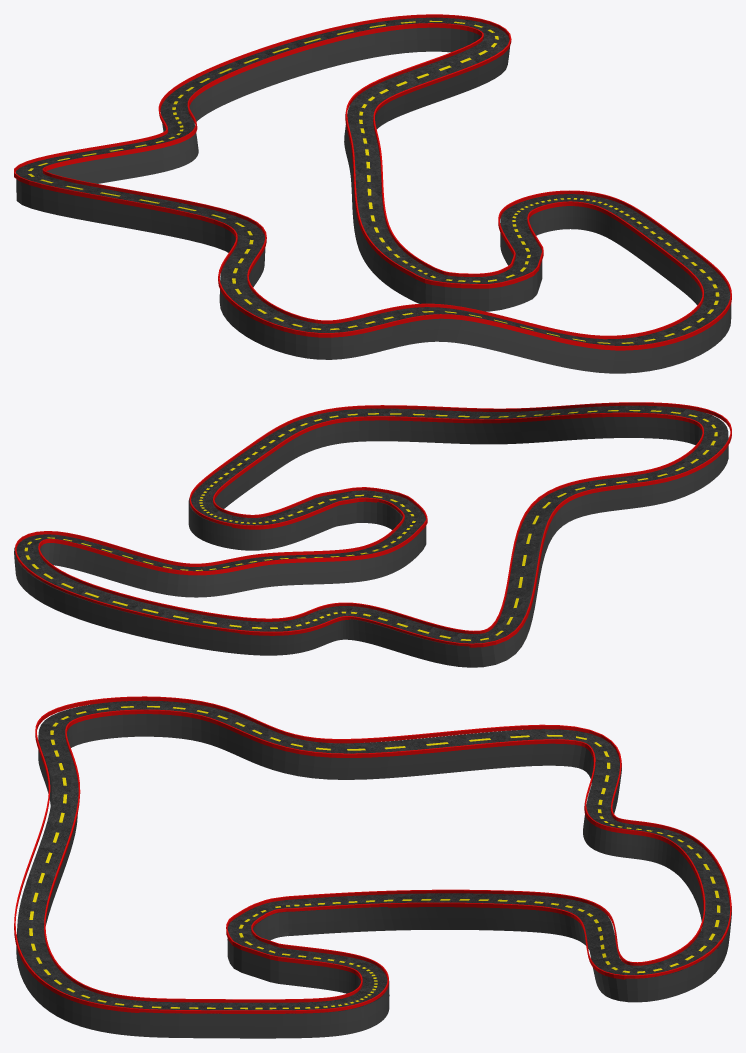
Rendered from curvywervy_trrack.fbx.
3 renders of one model, top to bottom at view 1: azimuth 30°, elevation 25°; view 2: azimuth 150°, elevation 25°; view 3: azimuth 270°, elevation 25°, orthographic. The views are drawn at different scales.
Visible parts, largest first — view 1: NurbsCurve, NurbsCurve.001, NurbsCurve.002, NurbsCurve.005; view 2: NurbsCurve, NurbsCurve.001, NurbsCurve.002, NurbsCurve.005; view 3: NurbsCurve, NurbsCurve.001, NurbsCurve.002, NurbsCurve.005.
Boxes of the visible parts, box(x1,y1,x2,y2) form: NurbsCurve: box(16, 27, 731, 373); NurbsCurve.001: box(16, 17, 730, 345); NurbsCurve.002: box(14, 14, 731, 350); NurbsCurve.005: box(42, 23, 703, 339); NurbsCurve: box(14, 417, 728, 667); NurbsCurve.001: box(14, 405, 728, 646); NurbsCurve.002: box(15, 402, 731, 647); NurbsCurve.005: box(38, 412, 703, 633); NurbsCurve: box(16, 714, 731, 1038); NurbsCurve.001: box(17, 700, 731, 1013); NurbsCurve.002: box(14, 696, 731, 1013); NurbsCurve.005: box(44, 709, 705, 1002).
Size of the model in its own units: 6131 by 1247 by 7453.
